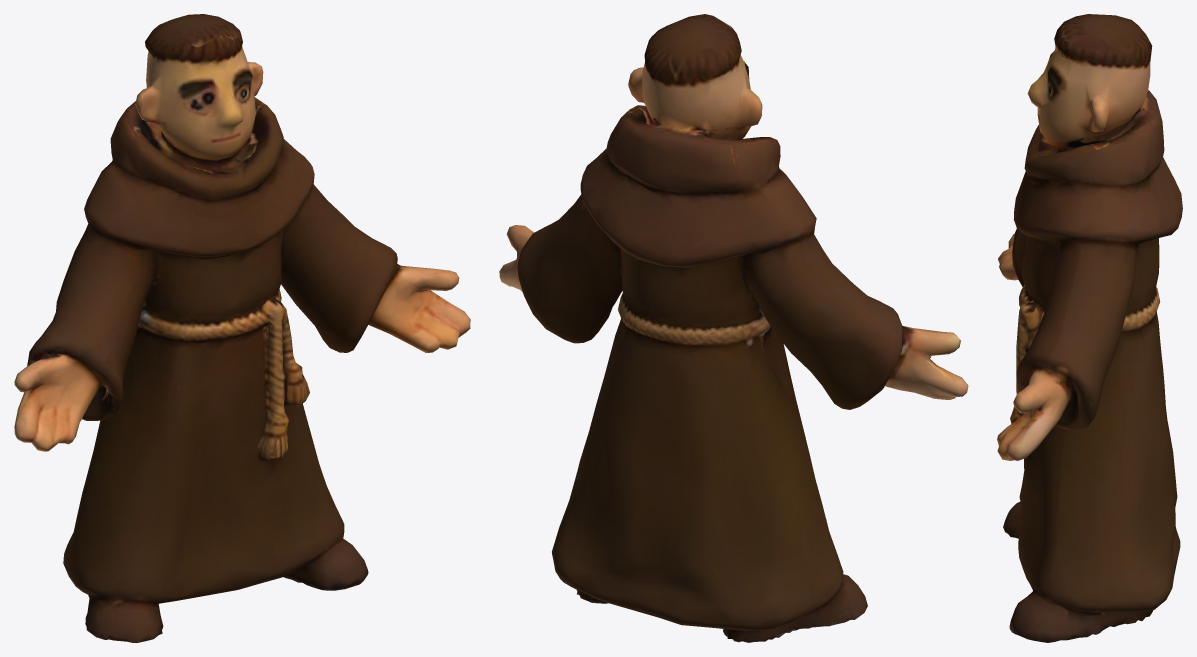
The model's file is char_monk_scribe.glb.
The picture shows the model from 3 angles, left to right: view 1: azimuth 30°, elevation 25°; view 2: azimuth 150°, elevation 25°; view 3: azimuth 270°, elevation 25°; orthographic projection. The views are drawn at different scales.
Visible parts, largest first — view 1: geometry_0; view 2: geometry_0; view 3: geometry_0.
Boxes of the visible parts, x1=… form: geometry_0: x1=14, y1=14, x2=470, y2=642; geometry_0: x1=499, y1=14, x2=968, y2=642; geometry_0: x1=997, y1=14, x2=1182, y2=642.
Bounding box in the file's own units: 1.51 × 1.78 × 0.5402.
1 material, 1 textured.
